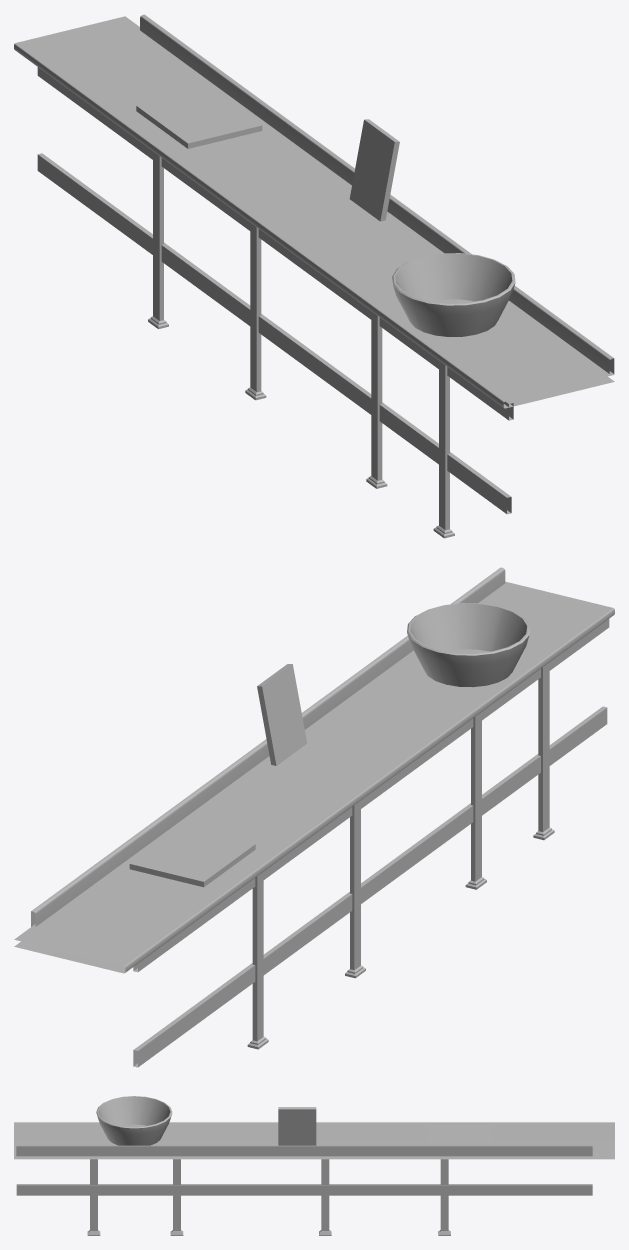
Rendered from desk window.fbx.
3 renders of one model, top to bottom at view 1: azimuth 30°, elevation 25°; view 2: azimuth 150°, elevation 25°; view 3: azimuth 270°, elevation 25°, orthographic. The views are drawn at different scales.
Visible parts, largest first — view 1: wood_window, dersk_window_leg, big_bowl, cut_pad; view 2: wood_window, dersk_window_leg, big_bowl, cut_pad; view 3: wood_window, dersk_window_leg, big_bowl, cut_pad.
Boxes of the visible parts, x1=… form: wood_window: x1=14, y1=14, x2=614, y2=408; dersk_window_leg: x1=37, y1=67, x2=513, y2=538; big_bowl: x1=392, y1=253, x2=515, y2=336; cut_pad: x1=136, y1=87, x2=399, y2=221; wood_window: x1=14, y1=567, x2=614, y2=973; dersk_window_leg: x1=133, y1=619, x2=609, y2=1067; big_bowl: x1=407, y1=603, x2=530, y2=687; cut_pad: x1=129, y1=664, x2=307, y2=887; wood_window: x1=14, y1=1122, x2=614, y2=1159; dersk_window_leg: x1=16, y1=1159, x2=592, y2=1235; big_bowl: x1=96, y1=1096, x2=172, y2=1145; cut_pad: x1=278, y1=1107, x2=491, y2=1145.
Size of the model in its own units: 52.22 by 109 by 375.
